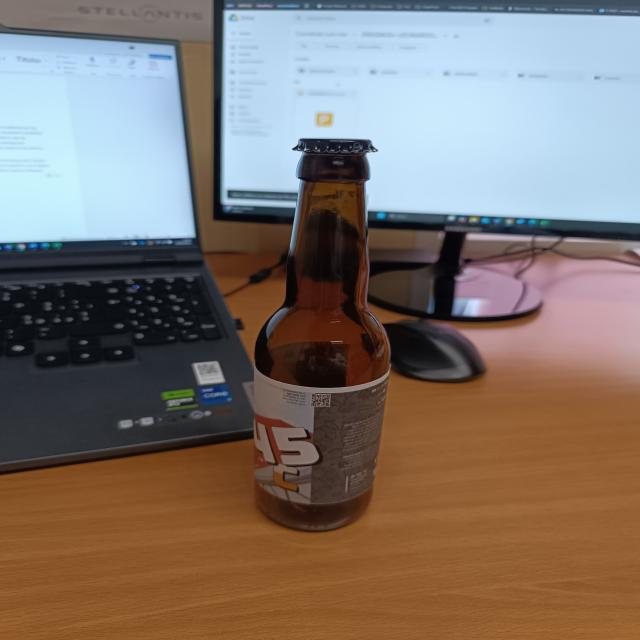Bottle: (251, 136, 392, 532)
Cap: (292, 136, 378, 159)
Label: (256, 378, 379, 502)
